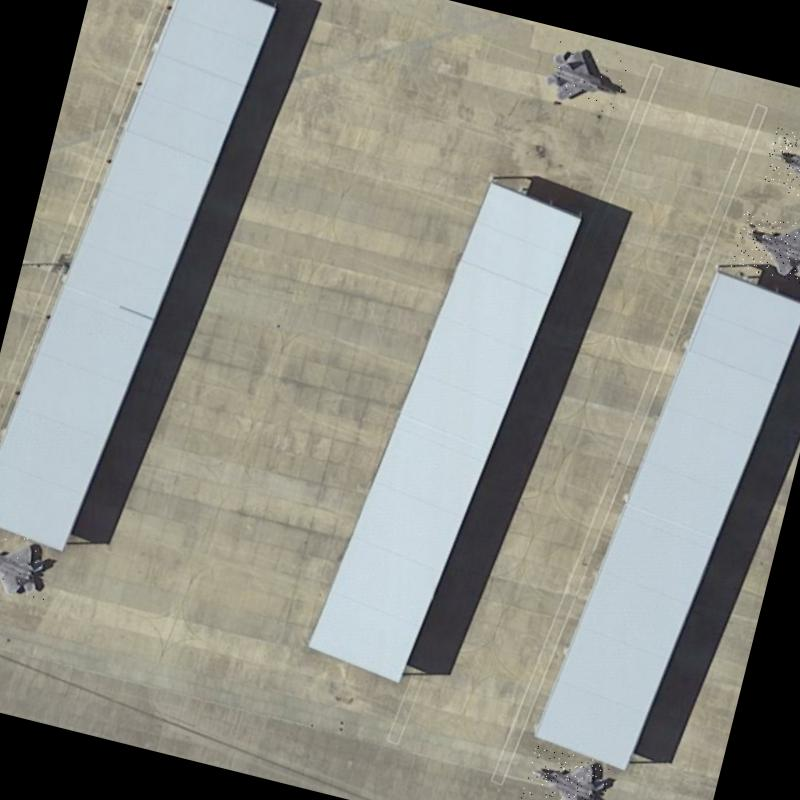A15: (537, 38, 630, 118), (730, 208, 800, 287), (518, 743, 614, 800), (0, 523, 56, 605), (760, 126, 800, 206)
